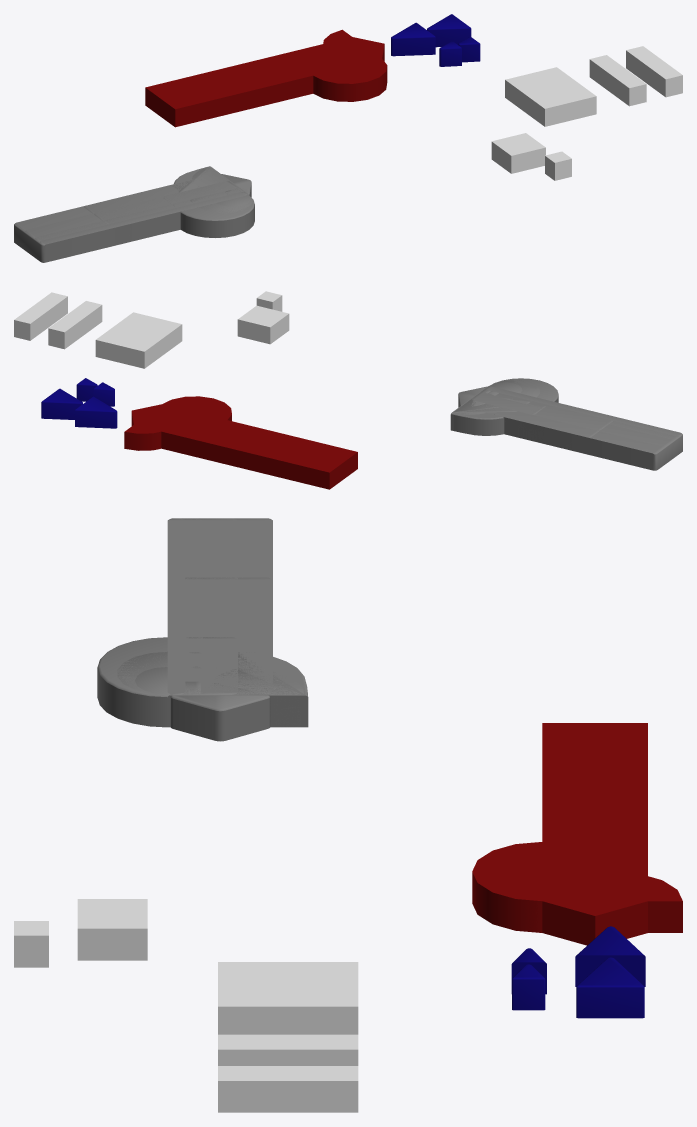
The model's file is Obstacles_Revamp_2024.fbx.
3 renders of one model, top to bottom at view 1: azimuth 30°, elevation 25°; view 2: azimuth 150°, elevation 25°; view 3: azimuth 270°, elevation 25°, orthographic. The views are drawn at different scales.
Visible parts, largest first — view 1: Box001, 3D_Gameplay_Obstacle_Wall_2x12, 3D_Gameplay_Obstacle_Wall_3x8, 3D_Gameplay_Obstacle_SkinVanila_Wall_3x12, 3D_Gameplay_Obstacle_SkinVanila_Wall_2x8, 3D_Gameplay_Obstacle_Wall_3x12, 3D_Gameplay_Obstacle_Island_4x4, 3D_Gameplay_Obstacle_SkinVanila_Wall_2x12, 3D_Gameplay_Obstacle_SkinVanila_Island_4x4, Box005, Box006, Box003 (+14 smaller); view 2: 3D_Gameplay_Obstacle_Wall_3x12, 3D_Gameplay_Obstacle_Wall_3x8, 3D_Gameplay_Obstacle_SkinVanila_Wall_3x12, Box001, Box005, Box006, Box003, 3D_Gameplay_Obstacle_SkinVanila_Wall_3x8, 3D_Gameplay_Obstacle_SkinVanila_Wall_2x8, 3D_Gameplay_Obstacle_SkinVanila_IslandCap_B_2x2, 3D_Gameplay_Obstacle_Wall_2x12, 3D_Gameplay_Obstacle_SkinVanila_Wall_halfx12 (+13 smaller); view 3: Box001, 3D_Gameplay_Obstacle_Wall_3x8, Box006, 3D_Gameplay_Obstacle_Island_4x4, Box005, Box003, 3D_Gameplay_Obstacle_Wall_2x12, 3D_Gameplay_Obstacle_SkinVanila_Island_4x4, 3D_Gameplay_Obstacle_SkinVanila_Island_2x3, 3D_Gameplay_Obstacle_SkinVanila_Wall_2x8, 3D_Gameplay_Obstacle_SkinVanila_Wall_3x8, 3D_Gameplay_Obstacle_Island_2x3 (+17 smaller).
Part boxes in pixels (x1,y1,x2,y2): Box001: [505, 67, 596, 126]; 3D_Gameplay_Obstacle_Wall_2x12: [155, 53, 363, 123]; 3D_Gameplay_Obstacle_Wall_3x8: [214, 38, 363, 94]; 3D_Gameplay_Obstacle_SkinVanila_Wall_3x12: [14, 186, 184, 262]; 3D_Gameplay_Obstacle_SkinVanila_Wall_2x8: [94, 187, 243, 245]; 3D_Gameplay_Obstacle_Wall_3x12: [145, 70, 244, 127]; 3D_Gameplay_Obstacle_Island_4x4: [309, 55, 387, 101]; 3D_Gameplay_Obstacle_SkinVanila_Wall_2x12: [25, 181, 229, 259]; 3D_Gameplay_Obstacle_SkinVanila_Island_4x4: [180, 198, 254, 237]; Box005: [589, 55, 646, 106]; Box006: [626, 46, 682, 97]; Box003: [491, 133, 545, 173]; 3D_Gameplay_Obstacle_Wall_3x12: [161, 432, 357, 489]; 3D_Gameplay_Obstacle_Wall_3x8: [145, 409, 291, 472]; 3D_Gameplay_Obstacle_SkinVanila_Wall_3x12: [504, 418, 682, 470]; Box001: [95, 312, 182, 368]; Box005: [48, 301, 102, 349]; Box006: [14, 292, 67, 340]; Box003: [237, 305, 289, 344]; 3D_Gameplay_Obstacle_SkinVanila_Wall_3x8: [478, 410, 605, 449]; 3D_Gameplay_Obstacle_SkinVanila_Wall_2x8: [490, 391, 612, 430]; 3D_Gameplay_Obstacle_SkinVanila_IslandCap_B_2x2: [75, 396, 117, 428]; 3D_Gameplay_Obstacle_Wall_2x12: [223, 433, 356, 465]; 3D_Gameplay_Obstacle_SkinVanila_Wall_halfx12: [486, 386, 682, 436]; Box001: [218, 962, 358, 1034]; 3D_Gameplay_Obstacle_Wall_3x8: [542, 782, 647, 899]; Box006: [218, 1066, 358, 1112]; 3D_Gameplay_Obstacle_Island_4x4: [472, 842, 559, 932]; Box005: [218, 1034, 358, 1065]; Box003: [77, 899, 147, 960]; 3D_Gameplay_Obstacle_Wall_2x12: [542, 723, 612, 875]; 3D_Gameplay_Obstacle_SkinVanila_Island_4x4: [97, 637, 167, 727]; 3D_Gameplay_Obstacle_SkinVanila_Island_2x3: [170, 695, 270, 741]; 3D_Gameplay_Obstacle_SkinVanila_Wall_2x8: [184, 577, 237, 693]; 3D_Gameplay_Obstacle_SkinVanila_Wall_3x8: [188, 577, 272, 693]; 3D_Gameplay_Obstacle_Island_2x3: [542, 901, 647, 945].
Size of what is drawn, in the model's own units: 3796 by 100 by 1905.
